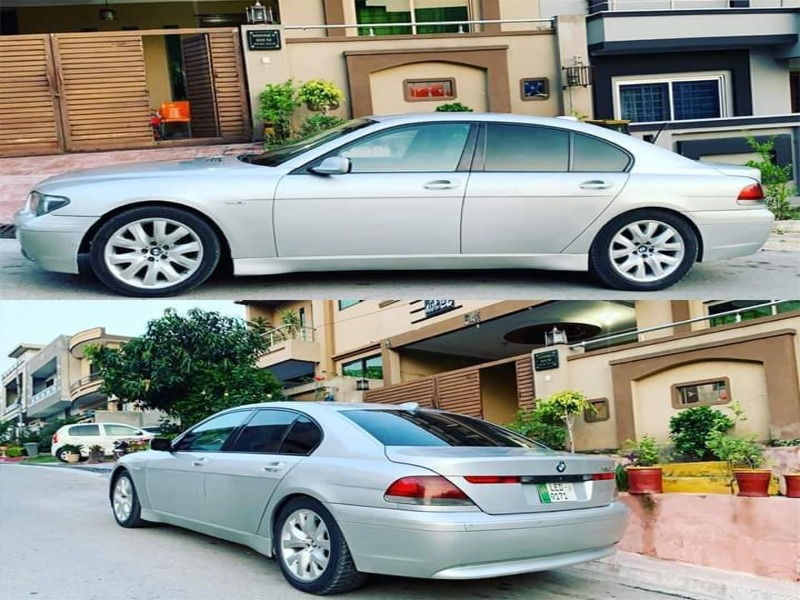License Plate: (532, 477, 585, 512)
